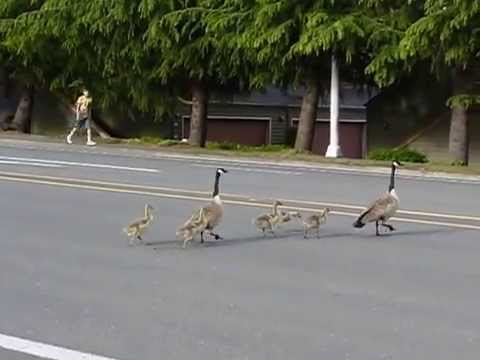goose: (351, 158, 407, 237), (188, 166, 230, 247)
